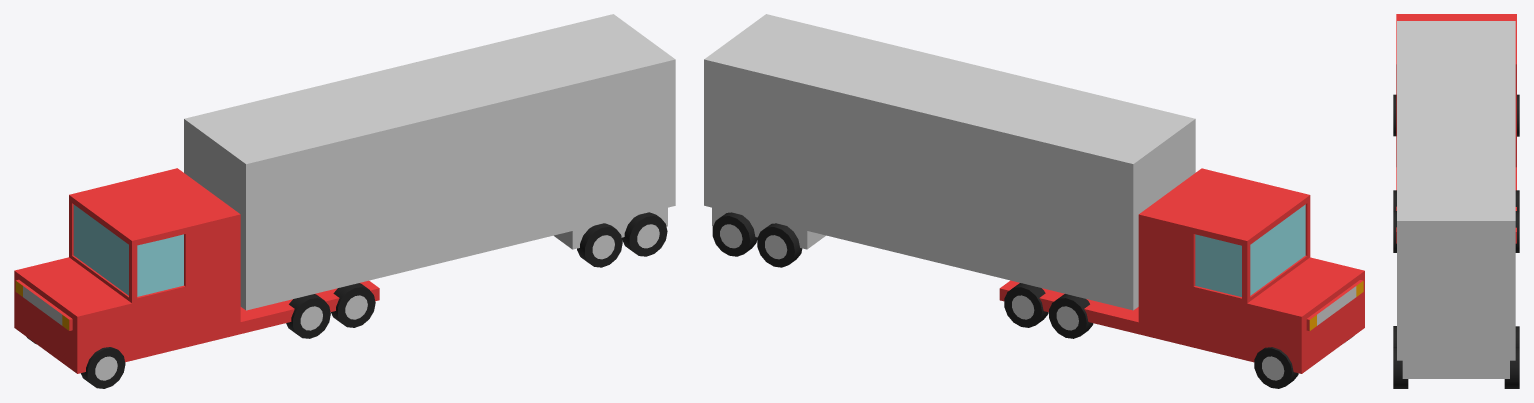
The model's file is truck.FBX.
3 renders of one model, left to right at view 1: azimuth 30°, elevation 25°; view 2: azimuth 150°, elevation 25°; view 3: azimuth 270°, elevation 25°, orthographic. The views are drawn at different scales.
Visible parts, largest first — view 1: Box02, Box01, Cylinder19, Cylinder18, Cylinder15, Cylinder12, Cylinder01; view 2: Box02, Box01, Cylinder17, Cylinder16, Cylinder13, Cylinder14, Cylinder11; view 3: Box02, Box01, Cylinder16, Cylinder19, Cylinder13, Cylinder01, Cylinder12, Cylinder11.
Part boxes in pixels (bbox=[...]): Box02: bbox=[184, 14, 675, 310]; Box01: bbox=[14, 168, 379, 373]; Cylinder19: bbox=[622, 212, 667, 256]; Cylinder18: bbox=[577, 223, 622, 267]; Cylinder15: bbox=[286, 294, 330, 338]; Cylinder12: bbox=[331, 283, 375, 327]; Cylinder01: bbox=[81, 347, 125, 388]; Box02: bbox=[704, 14, 1195, 310]; Box01: bbox=[999, 168, 1364, 373]; Cylinder17: bbox=[757, 223, 802, 267]; Cylinder16: bbox=[712, 212, 757, 256]; Cylinder13: bbox=[1004, 283, 1048, 327]; Cylinder14: bbox=[1049, 294, 1093, 338]; Cylinder11: bbox=[1254, 347, 1298, 388]; Box02: bbox=[1397, 21, 1515, 378]; Box01: bbox=[1396, 14, 1516, 243]; Cylinder16: bbox=[1504, 347, 1519, 388]; Cylinder19: bbox=[1393, 347, 1408, 388]; Cylinder13: bbox=[1515, 211, 1519, 252]; Cylinder01: bbox=[1393, 94, 1396, 136]; Cylinder12: bbox=[1393, 211, 1396, 252]; Cylinder11: bbox=[1517, 94, 1519, 136].
Bounding box in the file's own units: 220 × 65.8 × 42.01.
